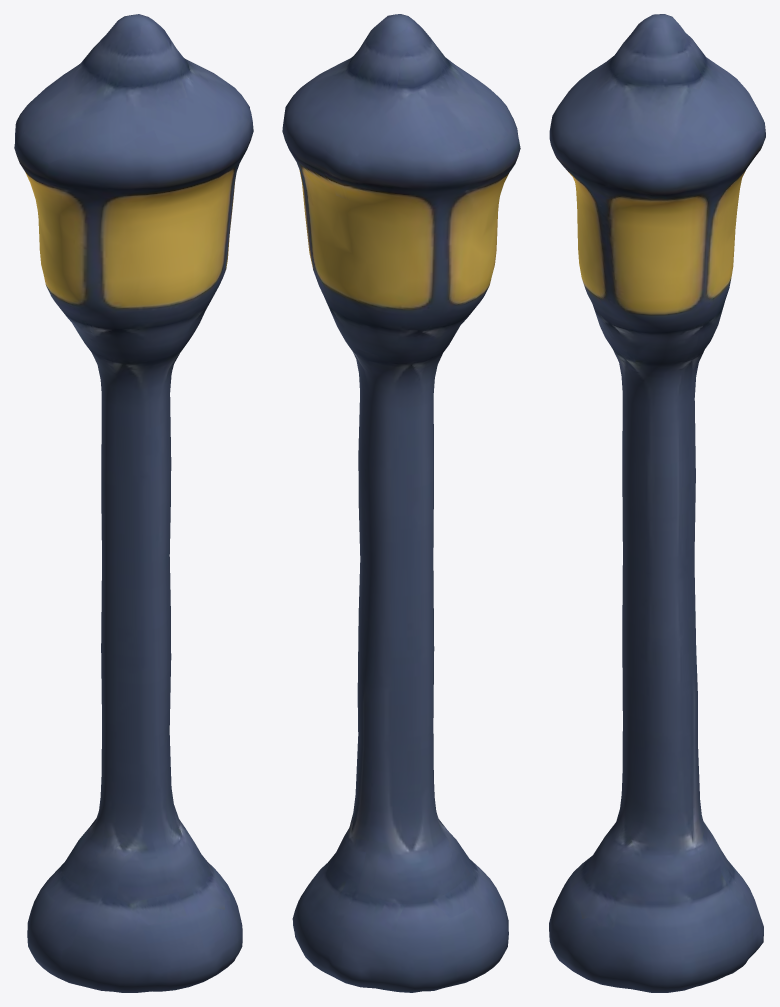
The model's file is lamp-post.glb.
3 renders of one model, left to right at view 1: azimuth 30°, elevation 25°; view 2: azimuth 150°, elevation 25°; view 3: azimuth 270°, elevation 25°, orthographic.
Parts seen in each view (by area): view 1: prop; view 2: prop; view 3: prop.
Boxes of the visible parts, x1=… form: prop: x1=14, y1=14, x2=253, y2=992; prop: x1=282, y1=14, x2=520, y2=992; prop: x1=549, y1=14, x2=765, y2=992.
Size of the model in its own units: 0.6333 by 2.62 by 0.5451.
Materials: 1 (1 with a texture image).
